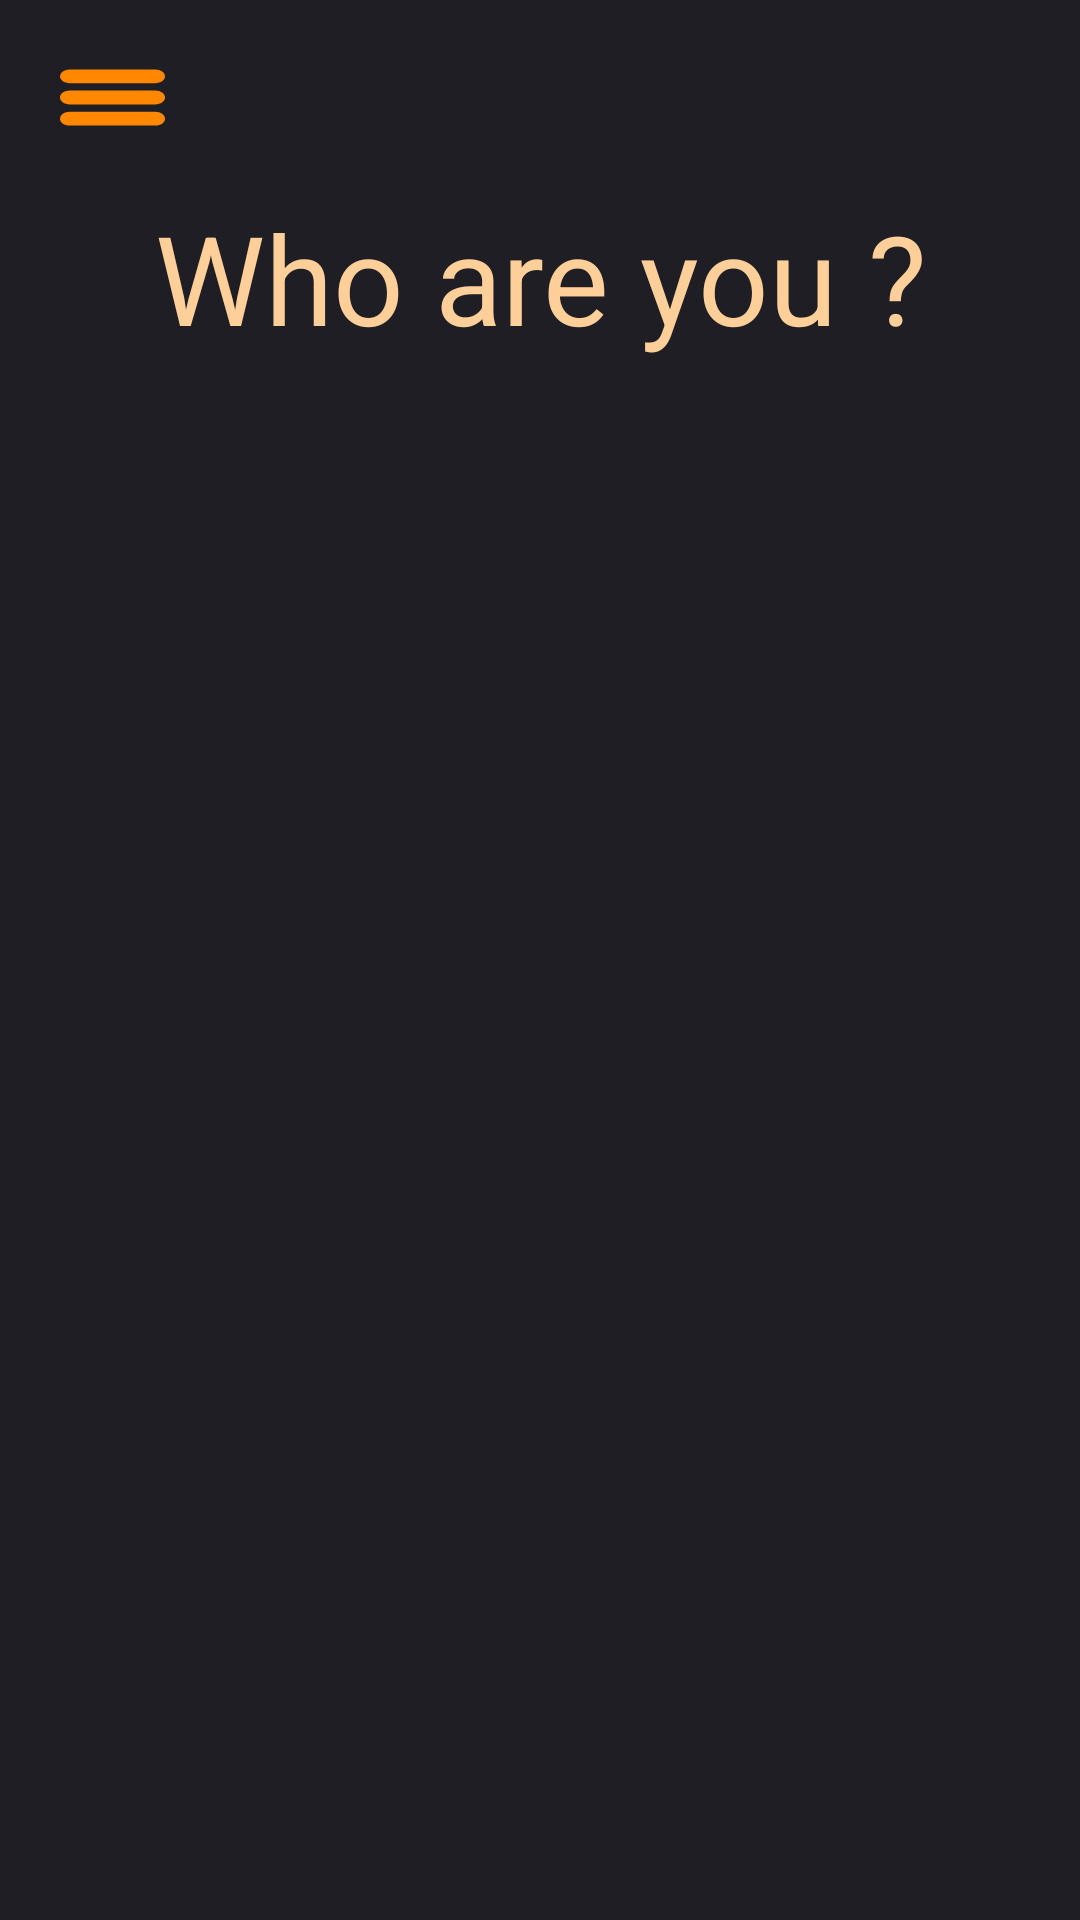

Named icons in this screenshot (1080 × 1920) and their centers, point (x, y):
list: point (112, 97)
